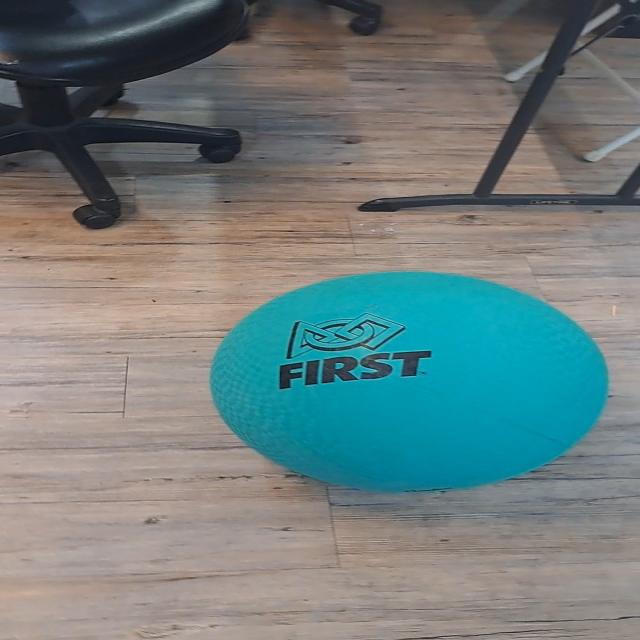ALGAE: (206, 268, 610, 494)
